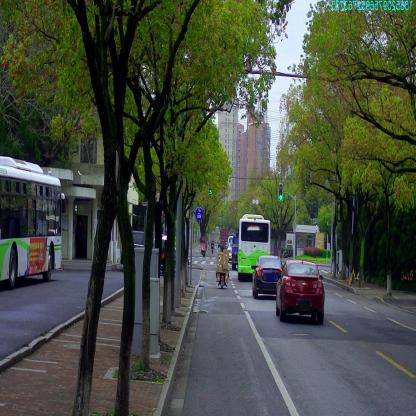traffic-light: (279, 184, 283, 200), (208, 188, 213, 196)
